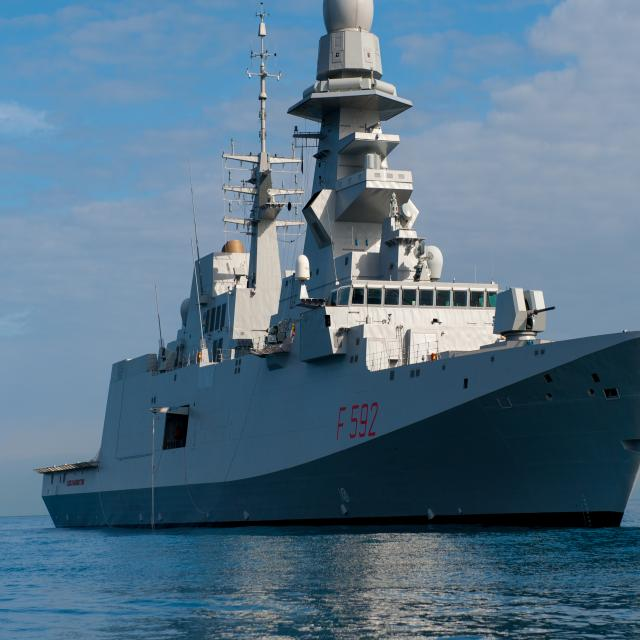Fragata: (1, 1, 479, 543)
